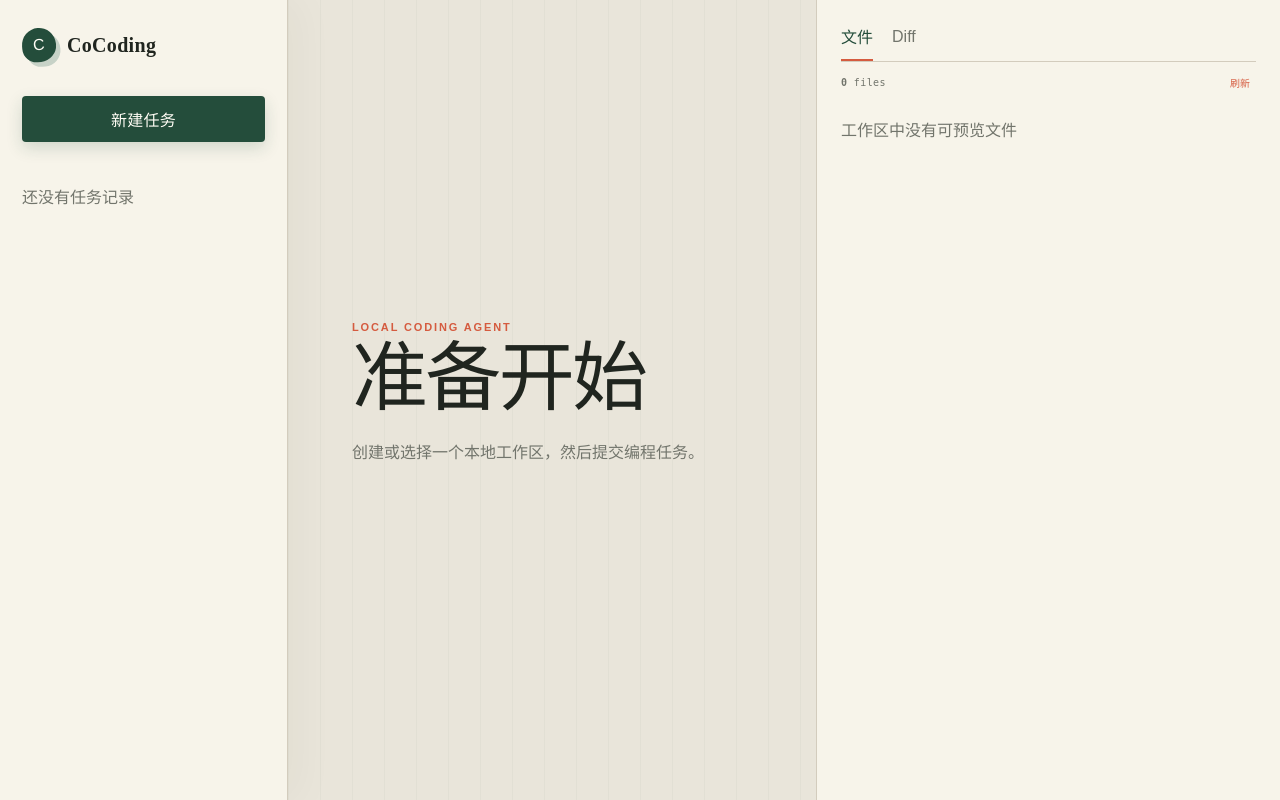
Scenario: creates a session and shows it in history
The width and height of the screenshot is (1280, 800).
Click the button "新建任务" at (144, 119), box x1=22 y1=96 x2=265 y2=142
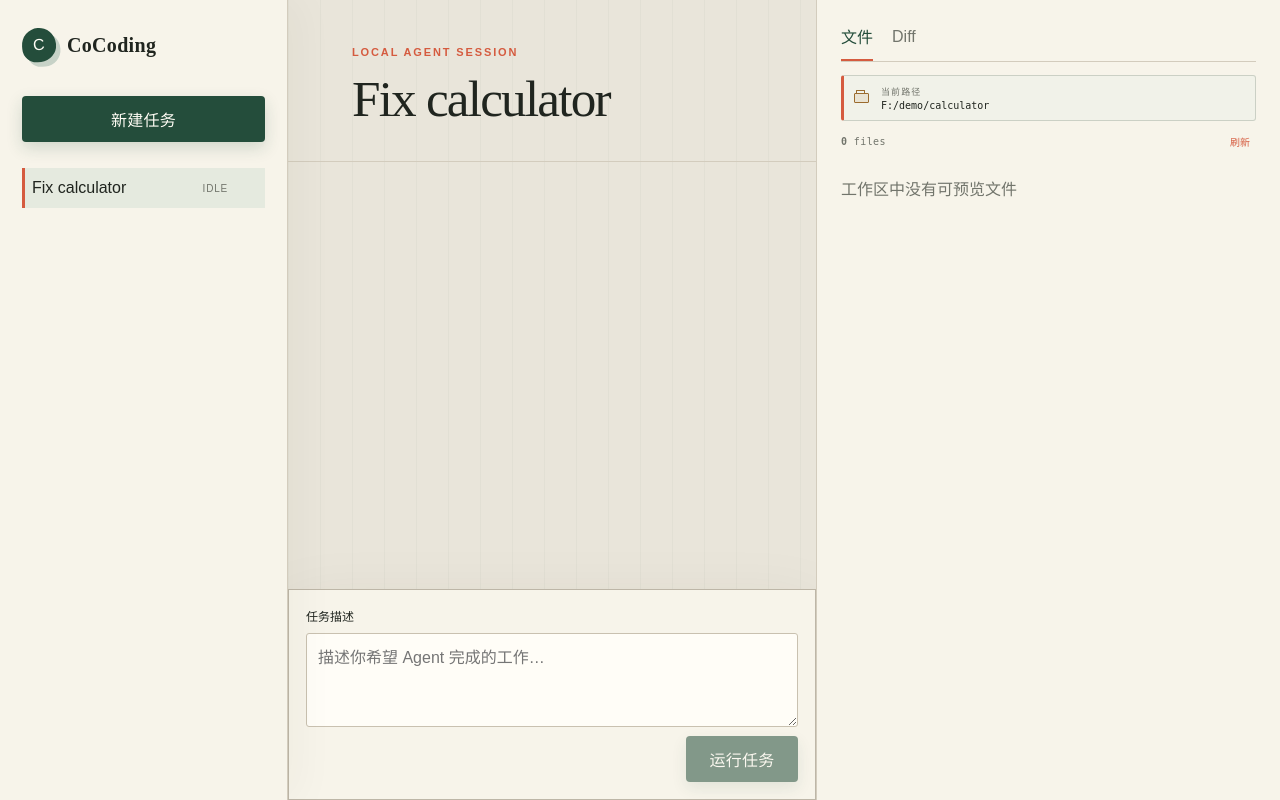
Now the button "Fix calculator idle" is shown, box x1=25 y1=168 x2=235 y2=208
